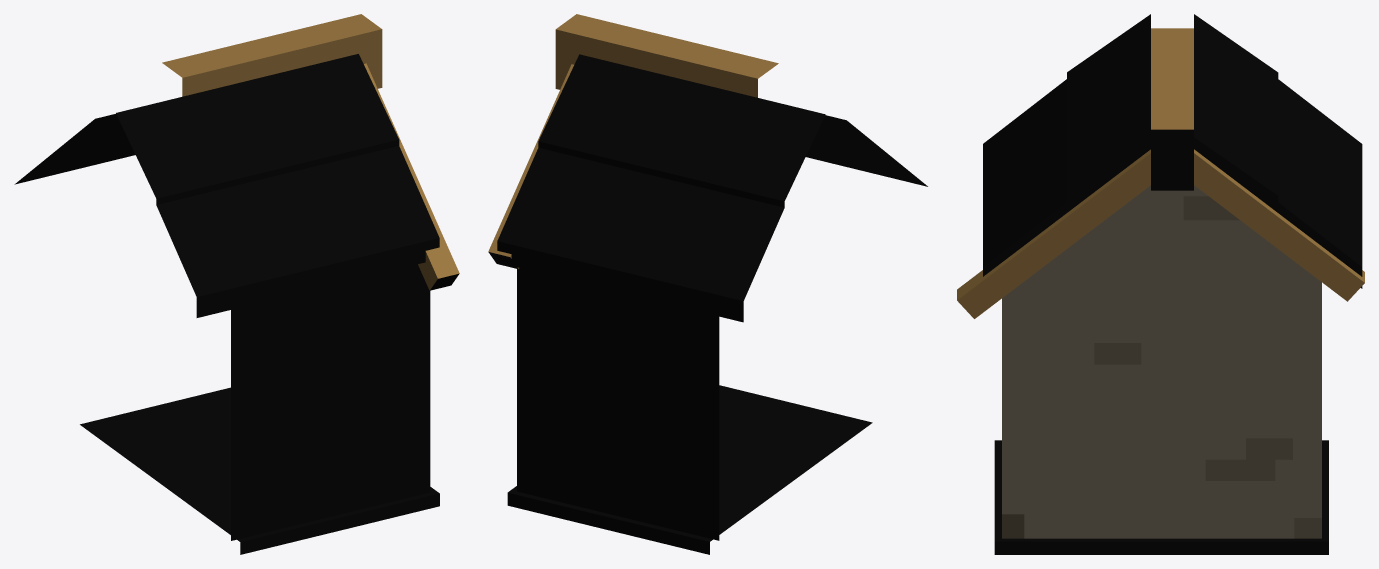
File: HouseAdd_StoneRoom_02.gltf
3 views of the same model, side by side, from view 1: azimuth 30°, elevation 25°; view 2: azimuth 150°, elevation 25°; view 3: azimuth 270°, elevation 25° (orthographic). The views are drawn at different scales.
Visible parts, largest first — view 1: SF_Bld_HouseAdd_StoneRoom_02; view 2: SF_Bld_HouseAdd_StoneRoom_02; view 3: SF_Bld_HouseAdd_StoneRoom_02.
Boxes of the visible parts, left/top/right/bottom form: SF_Bld_HouseAdd_StoneRoom_02: left=14, top=14, right=459, bottom=554; SF_Bld_HouseAdd_StoneRoom_02: left=488, top=14, right=927, bottom=554; SF_Bld_HouseAdd_StoneRoom_02: left=957, top=14, right=1364, bottom=554.
Bounding box in the file's own units: 0.0435 × 0.0652 × 0.0555.
1 material, 1 textured.
